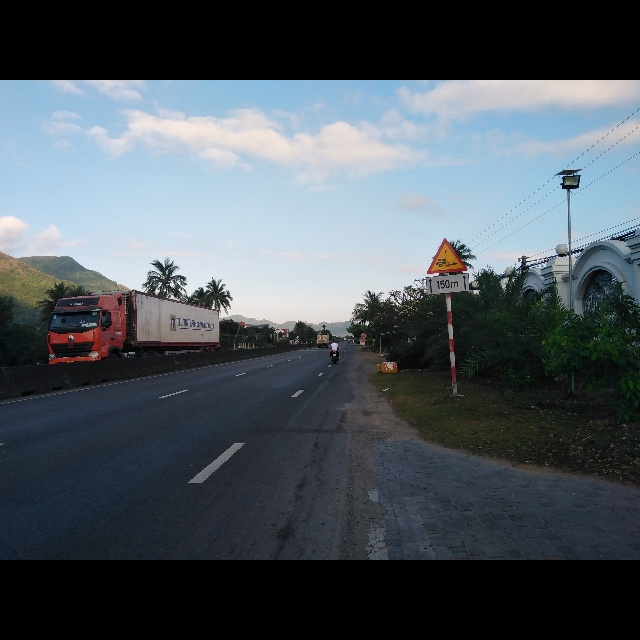Đoạn đường hay xảy ra tai nạn: (426, 236, 465, 276)
